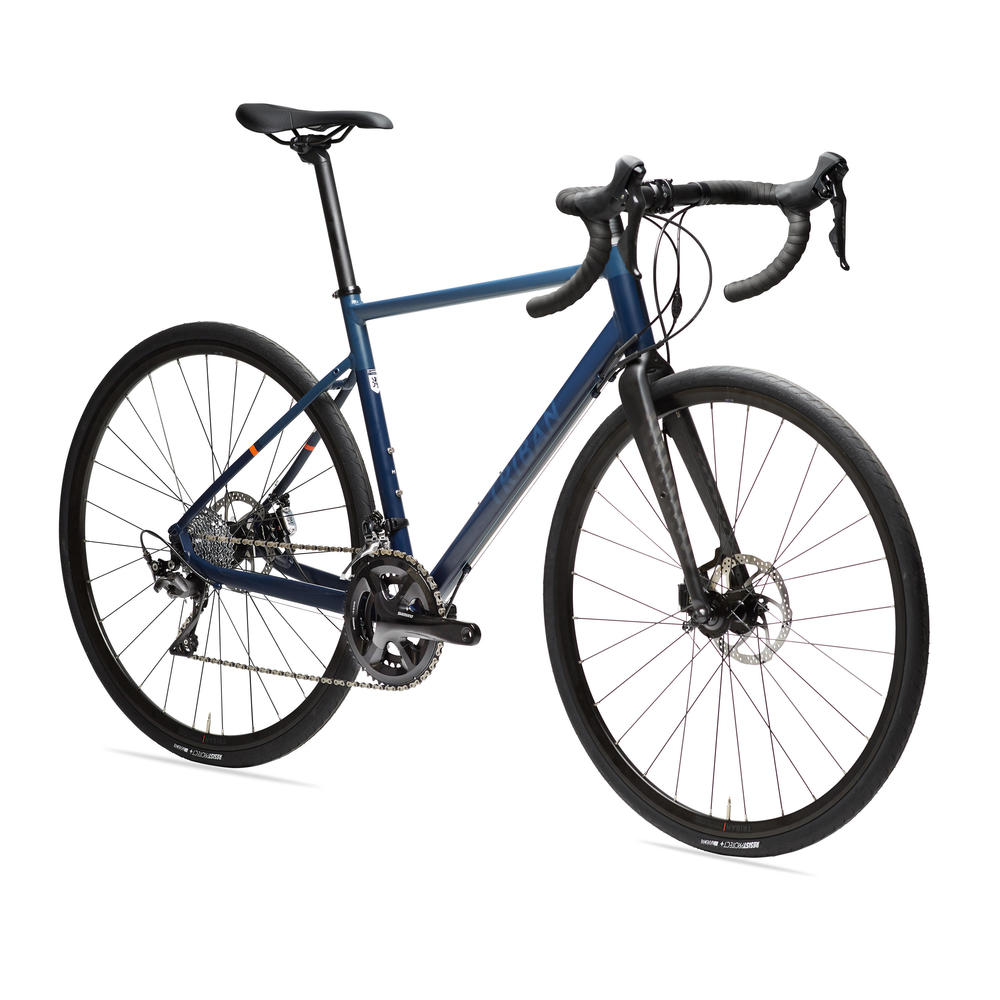RoadBike: (72, 105, 929, 839)
